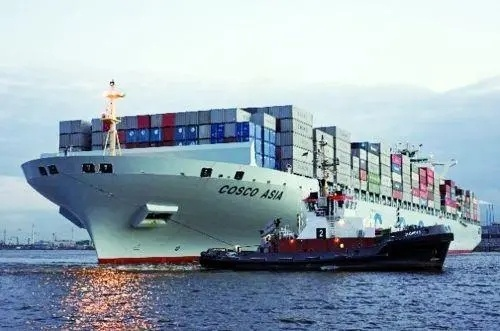Cargoship: (22, 75, 484, 267)
otherboat: (199, 187, 455, 276)
